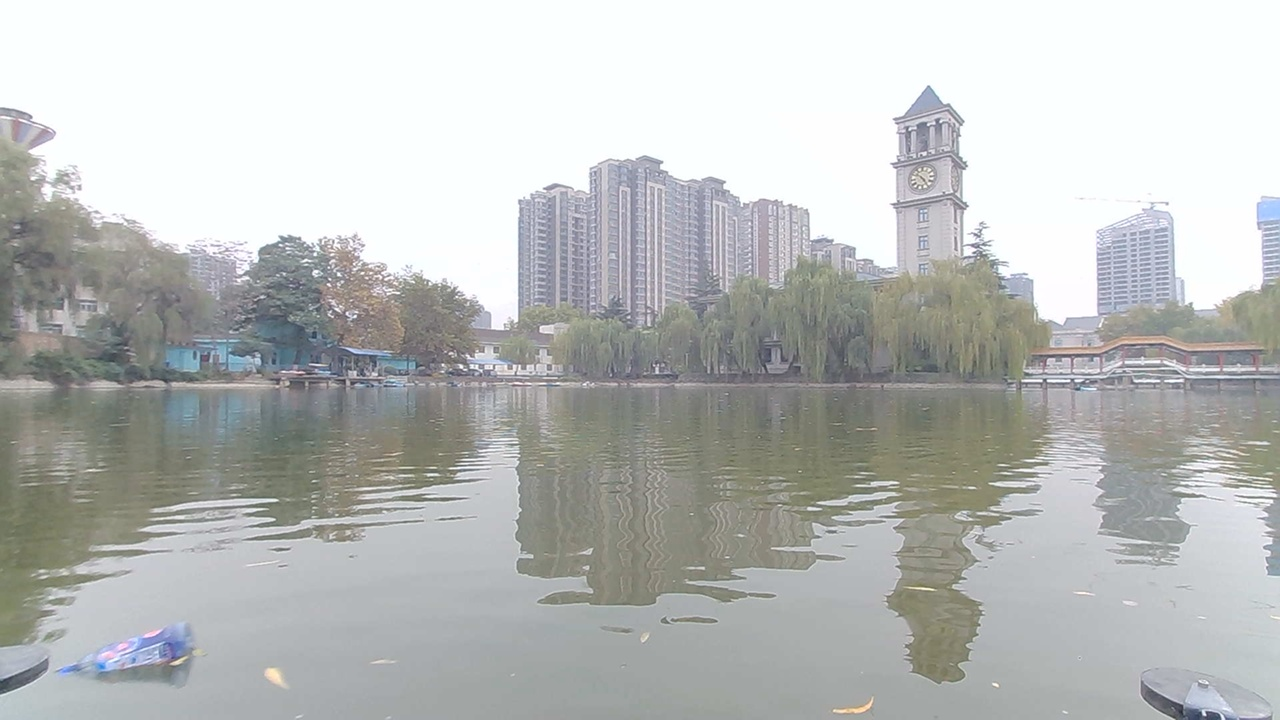bottle: (101, 623, 192, 681)
